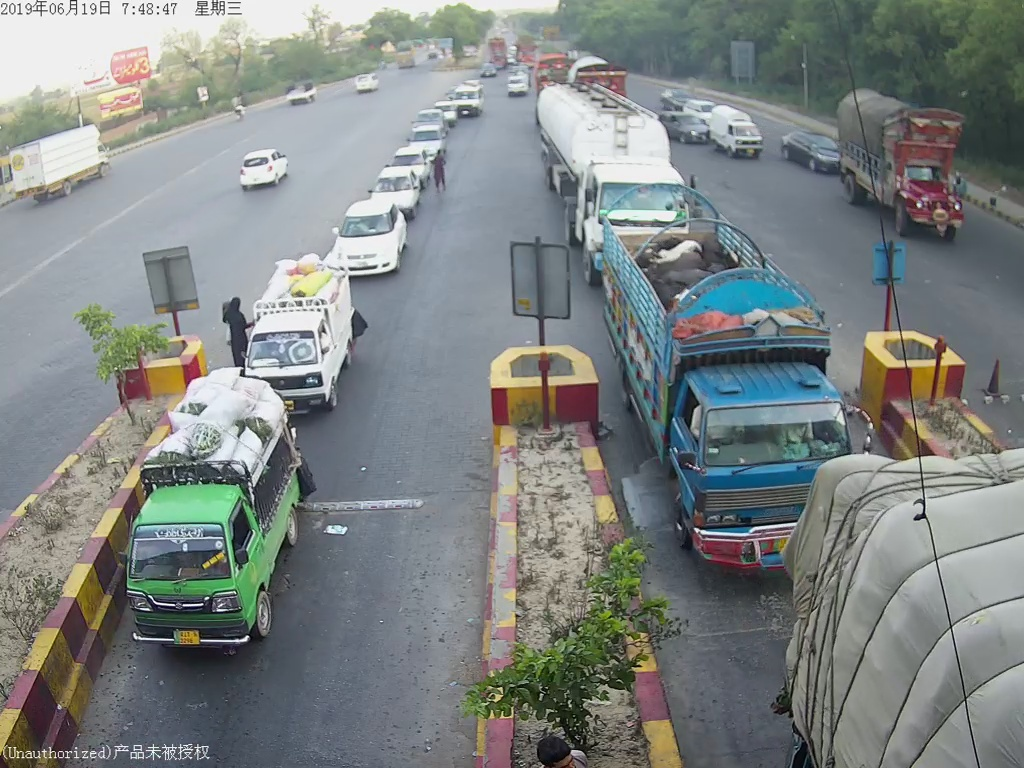Cat-1: (122, 389, 314, 648), (241, 259, 357, 405), (333, 199, 408, 277), (367, 165, 424, 216)
Cat-2: (607, 190, 866, 569)
Cat-4: (839, 83, 974, 237)
Cat-5: (536, 80, 690, 273)
